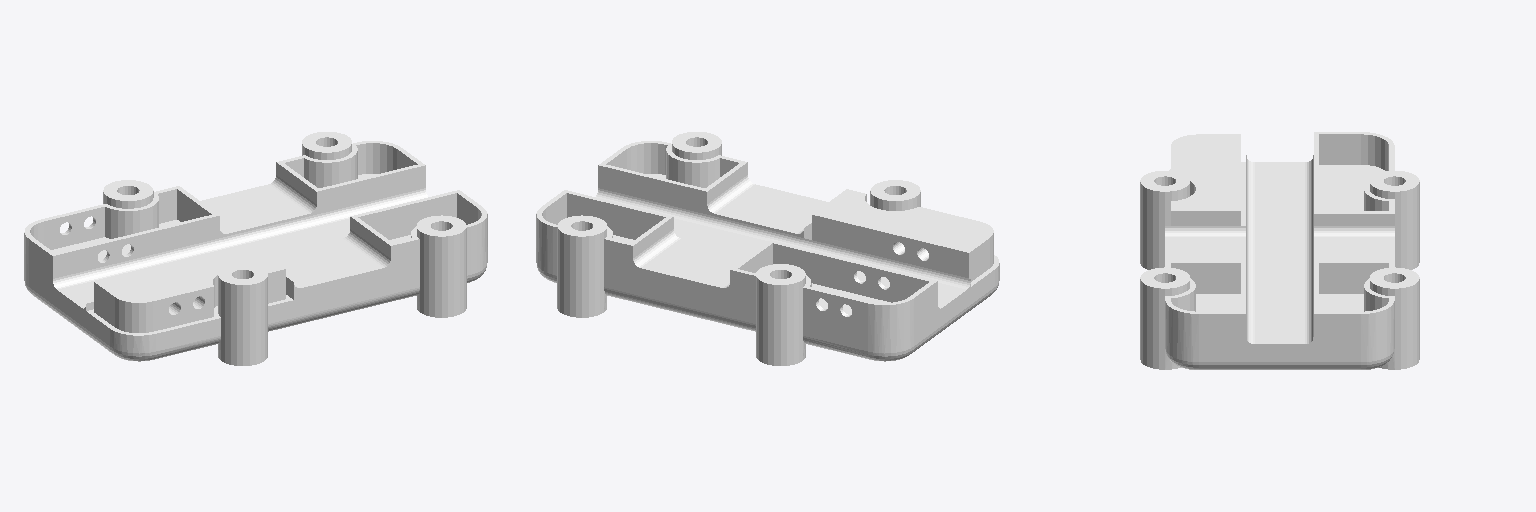
Rendered from seci_prob10.obj.
The picture shows the model from 3 angles: view 1: azimuth 30°, elevation 25°; view 2: azimuth 150°, elevation 25°; view 3: azimuth 270°, elevation 25°; orthographic projection.
Visible parts, largest first — view 1: SecI_Prob10; view 2: SecI_Prob10; view 3: SecI_Prob10.
Part boxes in pixels (bbox=[...]): SecI_Prob10: bbox=[24, 132, 487, 365]; SecI_Prob10: bbox=[536, 132, 999, 365]; SecI_Prob10: bbox=[1140, 132, 1419, 369].
Bounding box in the file's own units: 0.154 × 0.032 × 0.1.